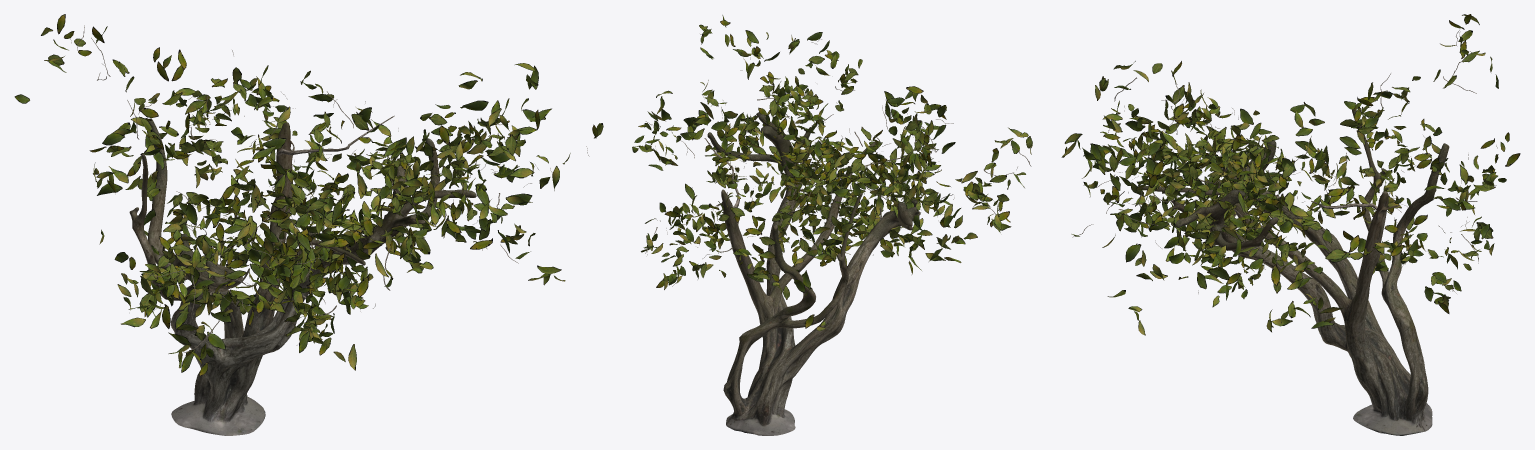
Rendered from island_tree_02_lod1.gltf.
3 views of the same model, side by side, from view 1: azimuth 30°, elevation 25°; view 2: azimuth 150°, elevation 25°; view 3: azimuth 270°, elevation 25° (orthographic). The views are drawn at different scales.
Visible parts, largest first — view 1: island_tree_02_LOD0; view 2: island_tree_02_LOD0; view 3: island_tree_02_LOD0.
Part boxes in pixels (x1,y1,x2,y2): island_tree_02_LOD0: (14, 14, 603, 435); island_tree_02_LOD0: (632, 15, 1032, 435); island_tree_02_LOD0: (1061, 14, 1520, 435).
Bounding box in the file's own units: 3.82 × 3.42 × 4.01.
3 materials, 3 textured.
